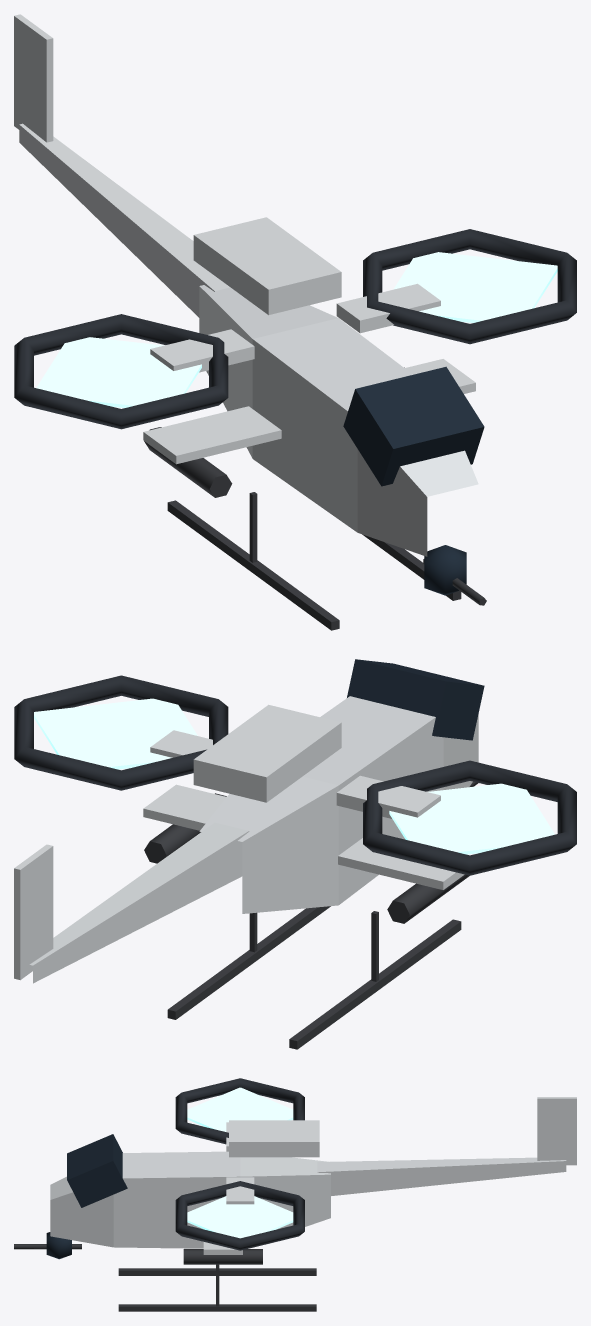
The model's file is veh_air_heli_attack_a09_lod2.glb.
3 views of the same model, one above another, from view 1: azimuth 30°, elevation 25°; view 2: azimuth 150°, elevation 25°; view 3: azimuth 270°, elevation 25° (orthographic). The views are drawn at different scales.
Parts seen in each view (by area): view 1: body, rotor_l, rotor_r; view 2: body, rotor_r, rotor_l; view 3: body, rotor_l, rotor_r.
Boxes of the visible parts, x1=… form: body: x1=14, y1=14, x2=484, y2=630; rotor_l: x1=363, y1=229, x2=576, y2=344; rotor_r: x1=14, y1=314, x2=228, y2=429; body: x1=14, y1=659, x2=484, y2=1049; rotor_r: x1=363, y1=760, x2=576, y2=875; rotor_l: x1=14, y1=675, x2=228, y2=790; body: x1=46, y1=1097, x2=576, y2=1311; rotor_l: x1=175, y1=1181, x2=304, y2=1250; rotor_r: x1=175, y1=1078, x2=304, y2=1144.
Size of the model in its own units: 6.94 by 3.8 by 9.95.
